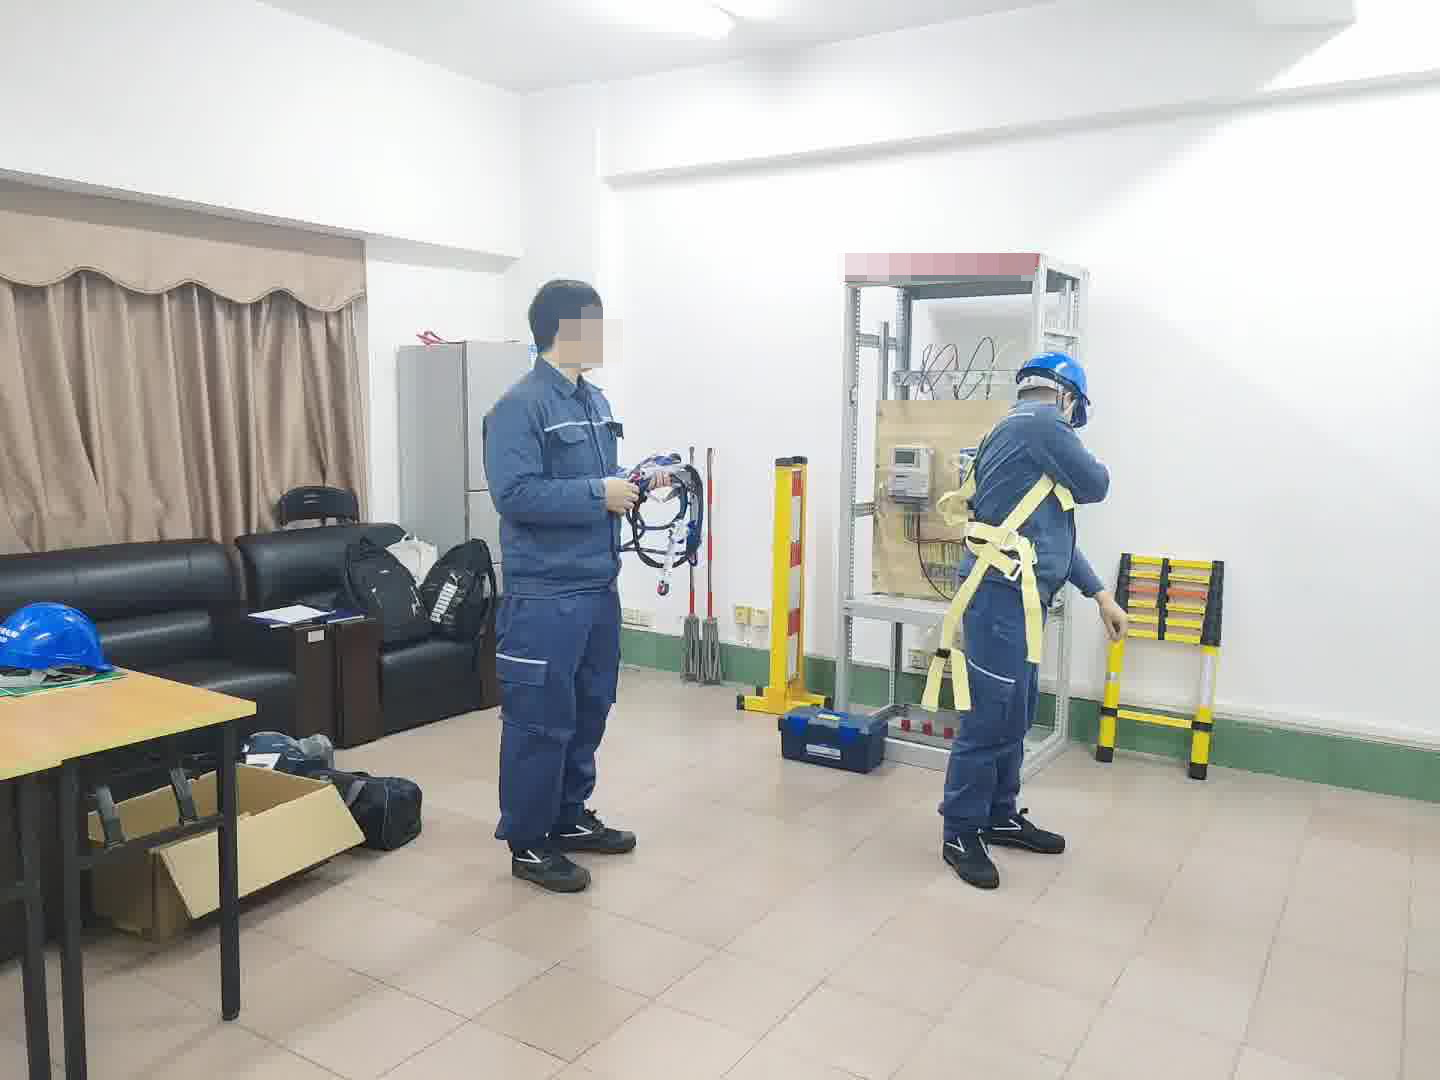downsuit: (492, 607, 624, 841), (939, 597, 1040, 834)
halt: (1014, 352, 1092, 419)
hand: (592, 472, 633, 517), (1098, 582, 1133, 633)
inear: (1052, 383, 1080, 423)
noear: (550, 317, 583, 351)
person: (475, 270, 653, 884), (930, 350, 1112, 874), (959, 347, 1115, 604)
safebelt: (932, 405, 1088, 718)
unhalt: (526, 275, 615, 372)
upsuit: (481, 362, 633, 585), (970, 400, 1108, 513)
